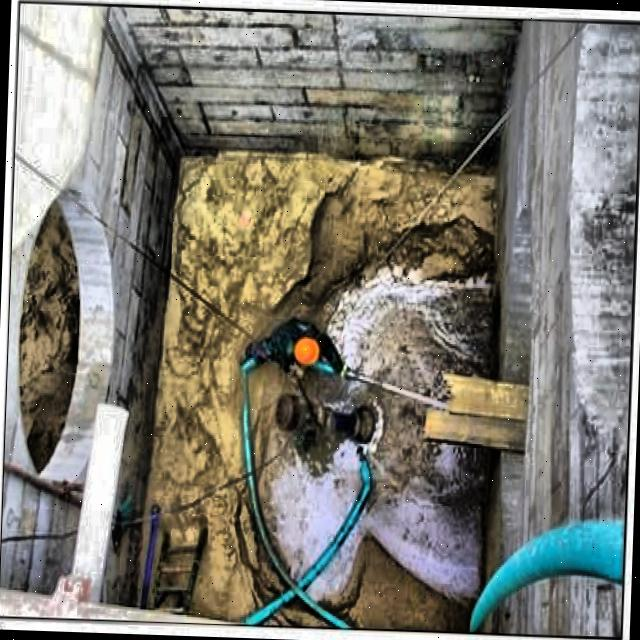helmet: (292, 327, 322, 368)
